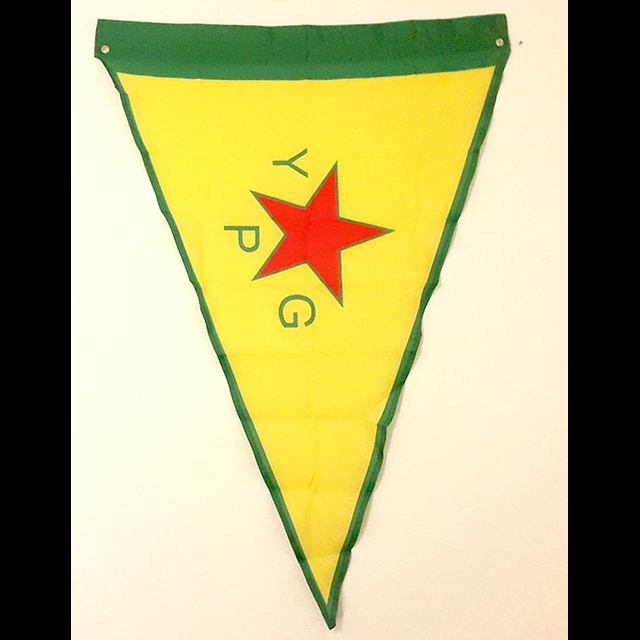YPG: (223, 138, 403, 344)
